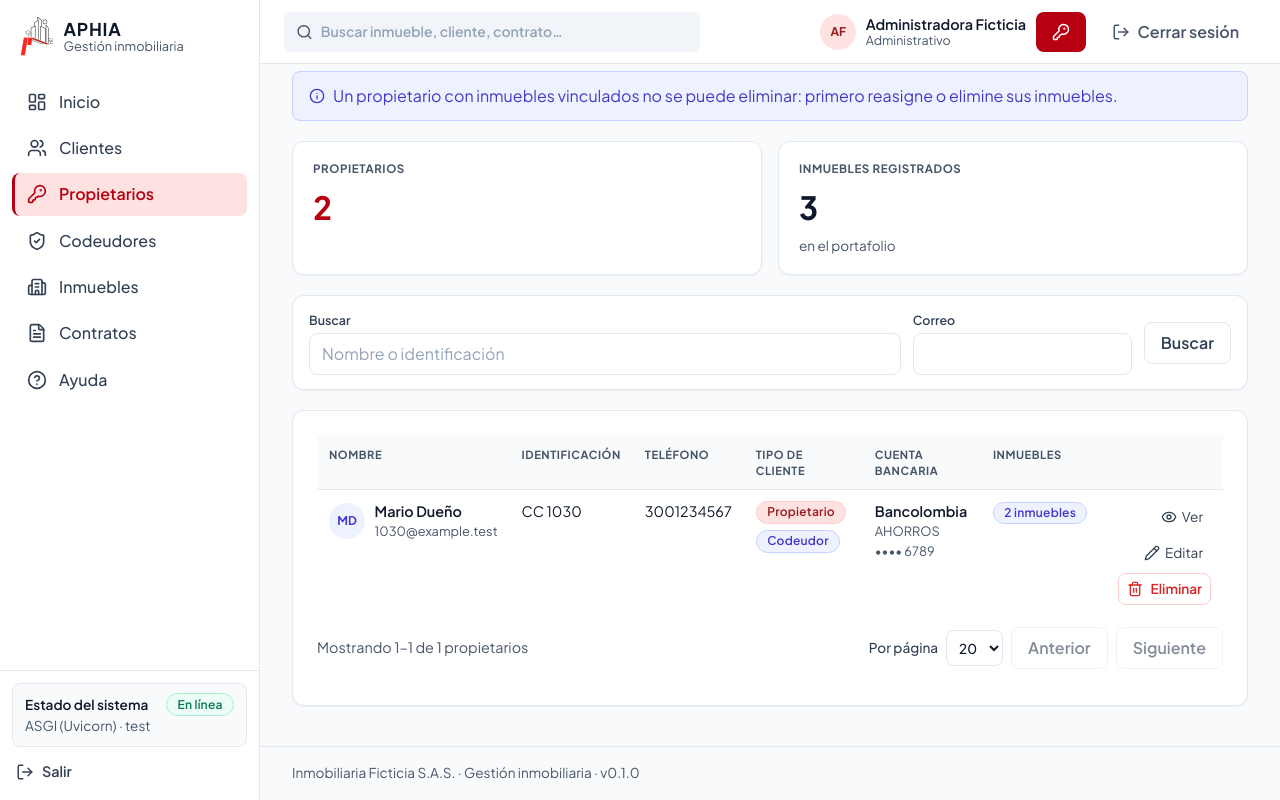
Test: PersonasListPage › elimina con confirmación y muestra el motivo cuando la API responde 409
(page scrolled)
Expected: the table is shown, 317,435 -> 1223,615
Click the button with aria-label "Eliminar Mario Dueño": (1165, 589) 1118,573 -> 1211,605
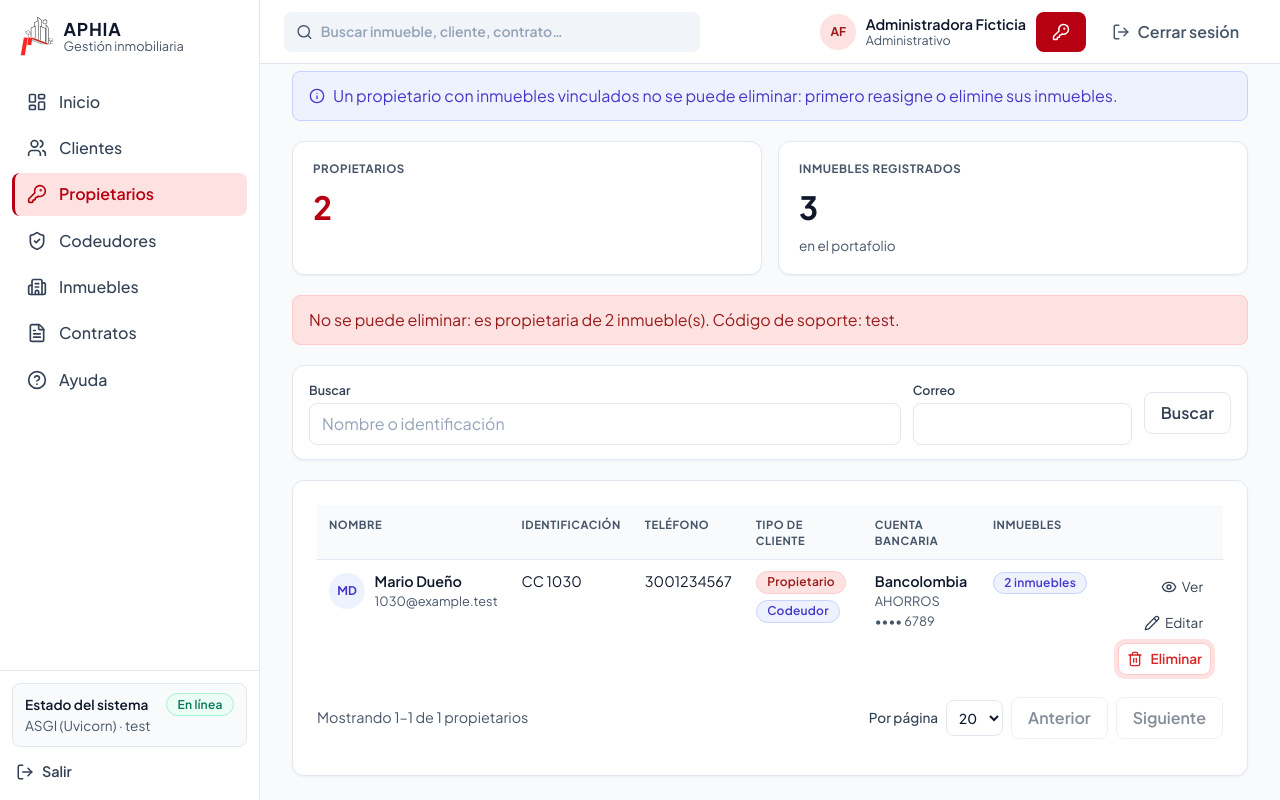
Result: the text "propietaria de 2 inmueble(s)" is shown at 309,309 -> 900,330
